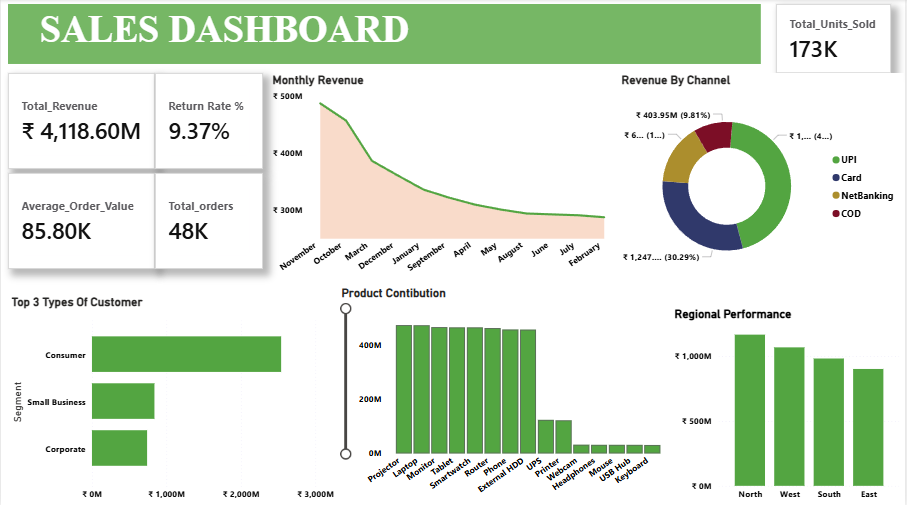

The page's visual inventory and layout, read from the dashboard file:
{"tool":"powerbi","page":{"name":"Page 1","canvas":[1280,720],"ordinal":0},"visuals":[{"type":"cardVisual","fields":{"Data":["fact_sales.Total_Revenue"]},"box":[9.9,104.9,208.3,136.1],"z":0},{"type":"cardVisual","fields":{"Data":["fact_sales.Average_Order_Value"]},"box":[9.9,246.6,208.3,136.1],"z":1},{"type":"stackedAreaChart","title":"Monthly Revenue","fields":{"Category":["fact_sales.Month Name"],"Y":["fact_sales.Total_Revenue"]},"box":[379.8,104.9,494.6,301.9],"z":2},{"type":"lineChart","title":"Product Contibution","fields":{"Y":["Date.Total Revenue"],"Category":["dim_product.Product"]},"box":[477.6,406.8,472,313.2],"z":3},{"type":"cardVisual","fields":{"Data":["fact_sales.Total_Units_Sold"]},"box":[1115.4,7.1,163,97.8],"z":5},{"type":"clusteredColumnChart","title":"Regional Performance","fields":{"Y":["fact_sales.Total_Revenue"],"Category":["fact_sales.Region"]},"box":[949.6,436.5,330.2,283.5],"z":6},{"type":"cardVisual","fields":{"Data":["fact_sales.Return Rate %"]},"box":[218.3,104.9,153.1,136.1],"z":7},{"type":"donutChart","title":"Revenue By Channel","fields":{"Y":["fact_sales.Total_Revenue"],"Category":["fact_sales.PaymentMethod"]},"box":[875,105,405,301.7],"z":8},{"type":"clusteredBarChart","title":"Top 3 Types Of Customer","fields":{"Category":["dim_customer.Segment"],"Y":["fact_sales.Total_Revenue"]},"box":[9.9,419.5,467.7,300.5],"z":9},{"type":"textbox","box":[9.9,7.1,1067.2,85],"z":10},{"type":"cardVisual","fields":{"Data":["fact_sales.Total_orders"]},"box":[218.3,246.6,153.1,136.1],"z":11}]}

Visuals, with their boxes in screenshot pixels (x1, y1, x2, y2), scaled from the page's 1280x720 canvas onto the 907x505 screenshot:
cardVisual - fact_sales.Total_Revenue: {"x1": 7, "y1": 74, "x2": 155, "y2": 169}
cardVisual - fact_sales.Average_Order_Value: {"x1": 7, "y1": 173, "x2": 155, "y2": 268}
"Monthly Revenue" stackedAreaChart: {"x1": 269, "y1": 74, "x2": 620, "y2": 285}
"Product Contibution" lineChart: {"x1": 338, "y1": 285, "x2": 673, "y2": 504}
cardVisual - fact_sales.Total_Units_Sold: {"x1": 790, "y1": 5, "x2": 906, "y2": 74}
"Regional Performance" clusteredColumnChart: {"x1": 673, "y1": 306, "x2": 906, "y2": 504}
cardVisual - fact_sales.Return Rate %: {"x1": 155, "y1": 74, "x2": 263, "y2": 169}
"Revenue By Channel" donutChart: {"x1": 620, "y1": 74, "x2": 906, "y2": 285}
"Top 3 Types Of Customer" clusteredBarChart: {"x1": 7, "y1": 294, "x2": 338, "y2": 504}
textbox: {"x1": 7, "y1": 5, "x2": 763, "y2": 65}
cardVisual - fact_sales.Total_orders: {"x1": 155, "y1": 173, "x2": 263, "y2": 268}
